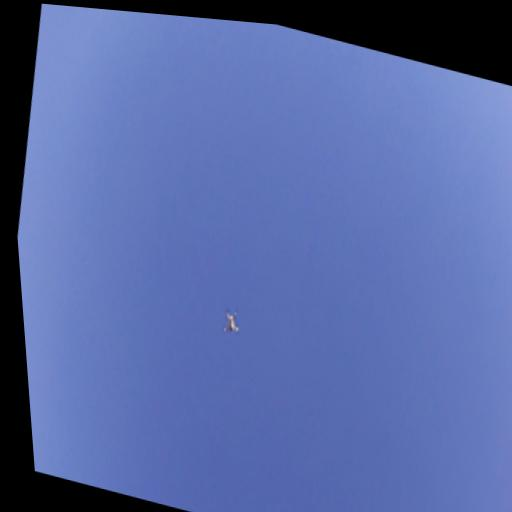drones: (218, 303, 246, 342)
